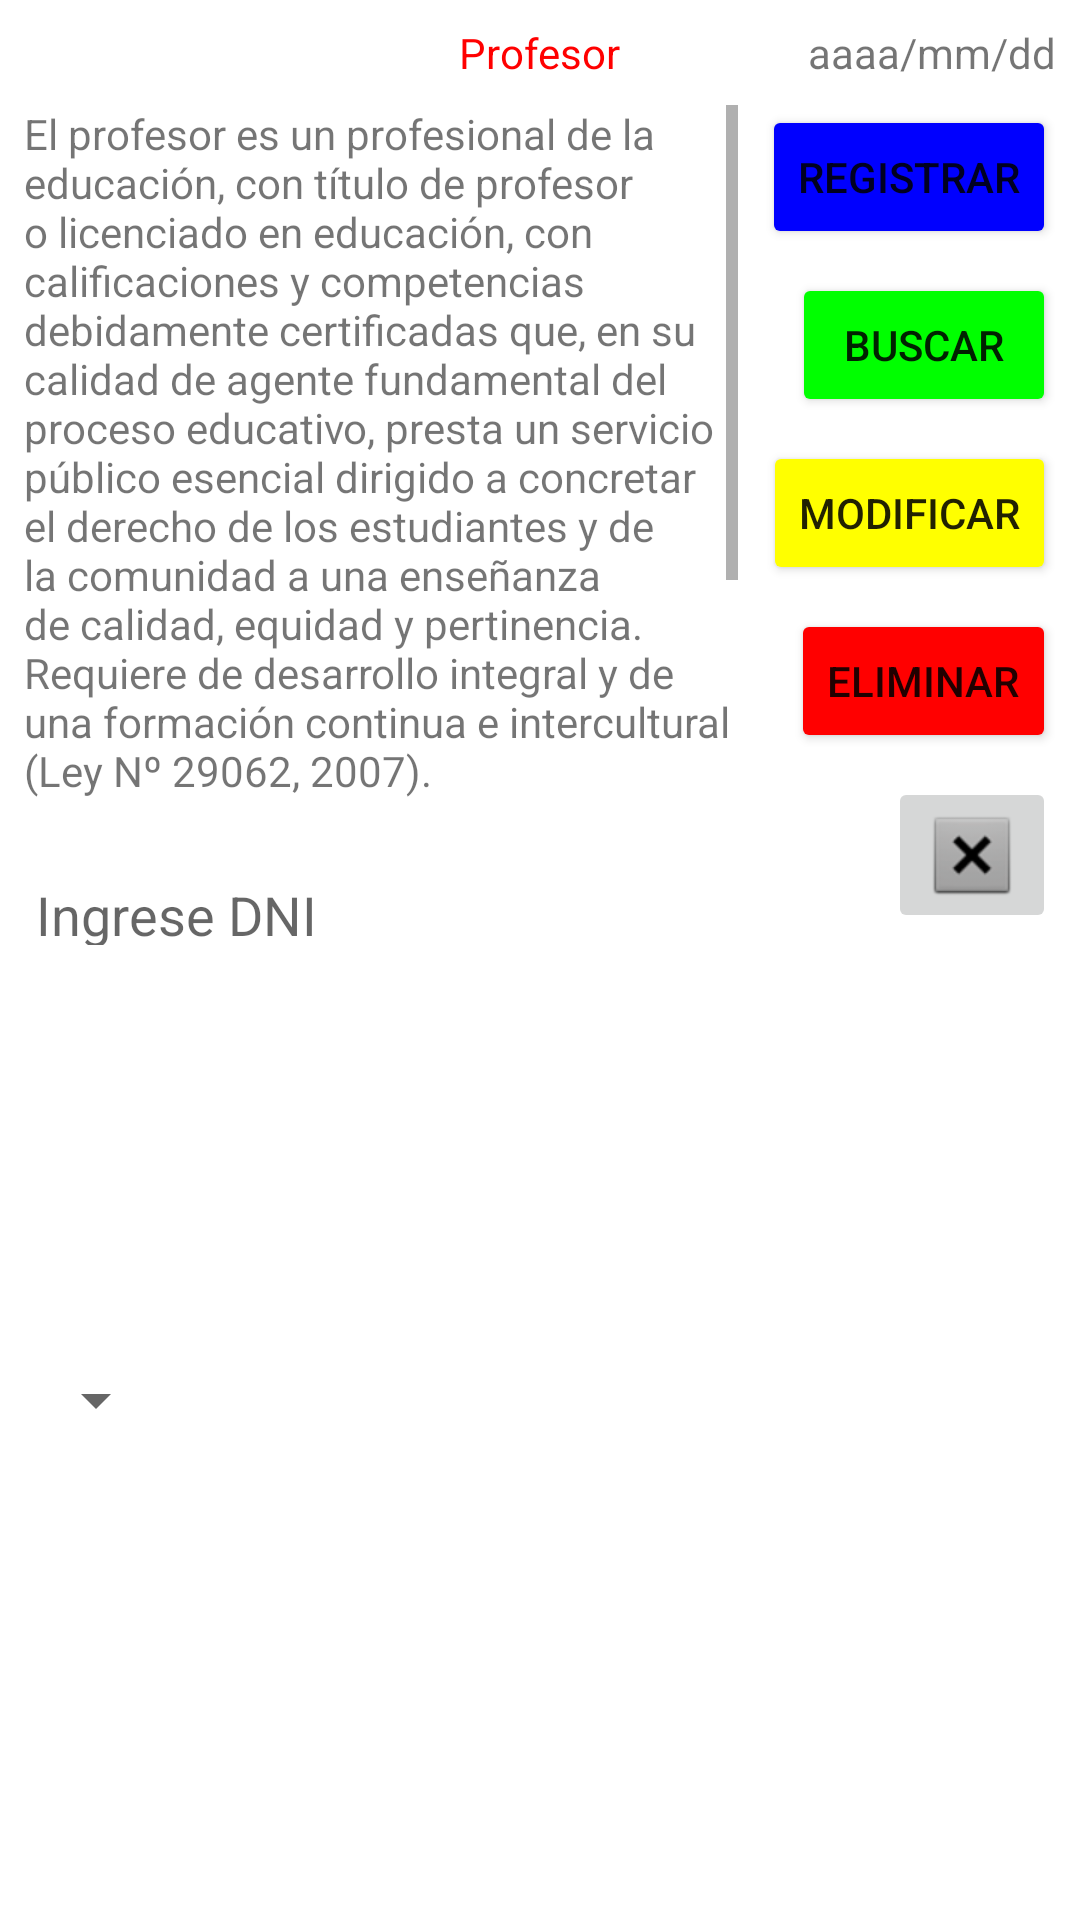

Icon click points for this 1080w x 1920h phone screenshot, format [x,y]:
Salir: [972,855]
